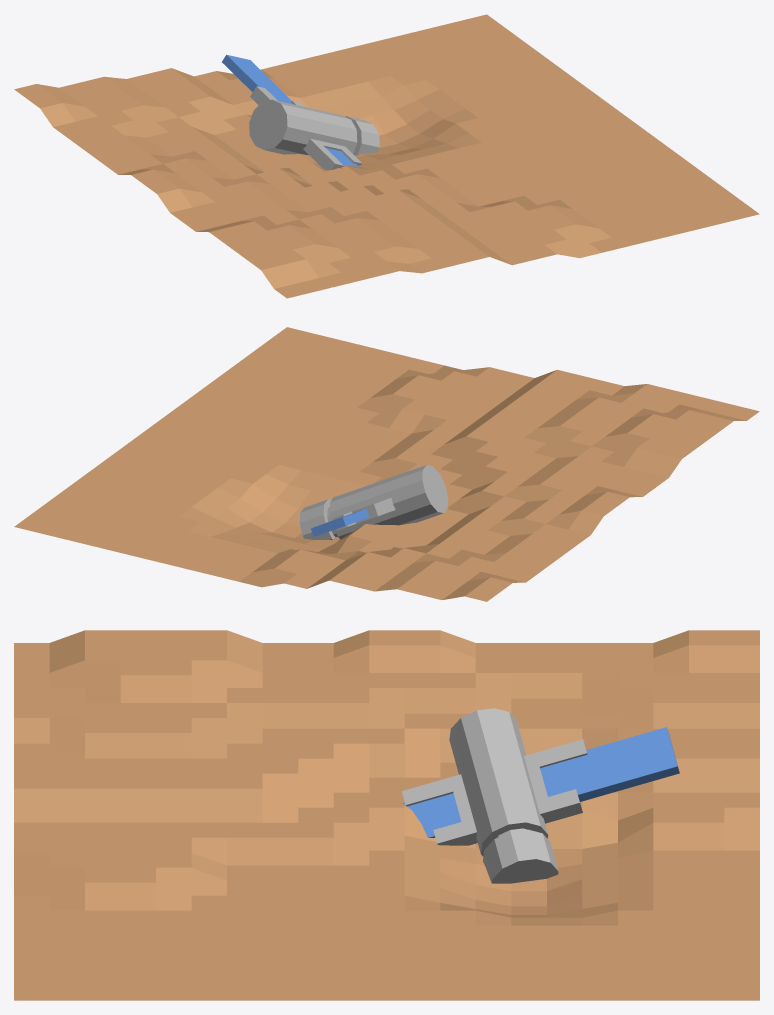
The model's file is CrashSite.fbx.
The picture shows the model from 3 angles, top to bottom: view 1: azimuth 30°, elevation 25°; view 2: azimuth 150°, elevation 25°; view 3: azimuth 270°, elevation 25°; orthographic projection. The views are drawn at different scales.
Visible parts, largest first — view 1: Plane, Cube; view 2: Plane, Cube; view 3: Plane, Cube.
Part boxes in pixels (left/top/right/bottom): Plane: left=14, top=14, right=759, bottom=298; Cube: left=222, top=54, right=379, bottom=170; Plane: left=14, top=327, right=759, bottom=601; Cube: left=299, top=465, right=448, bottom=539; Plane: left=14, top=630, right=759, bottom=1000; Cube: left=400, top=708, right=679, bottom=883.
Size of the model in its own units: 25459 by 5067 by 25459.
